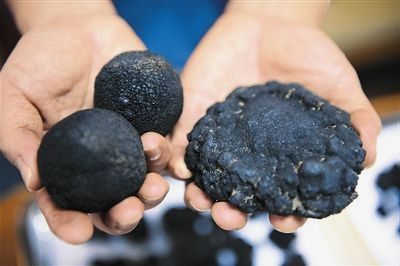halobolite: (181, 78, 373, 221), (36, 106, 145, 223), (84, 47, 179, 142)
